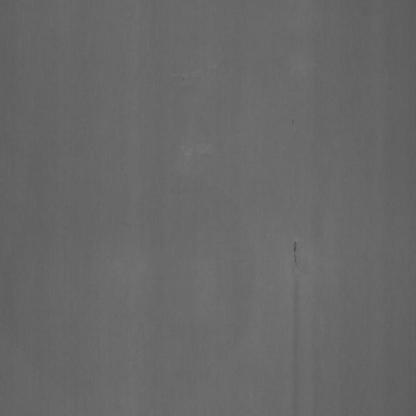inclusion: (287, 228, 305, 275)
